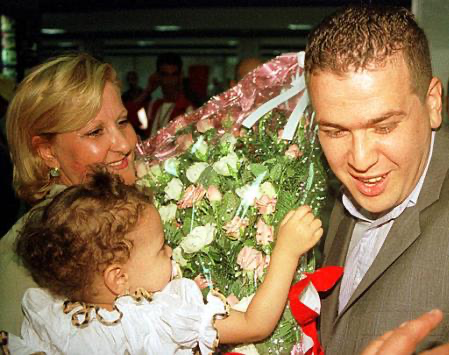Face: (306, 57, 436, 207), (49, 81, 141, 196), (108, 205, 181, 303)
